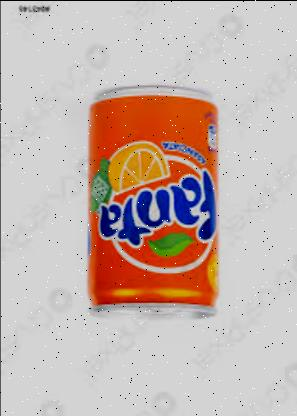Can: (84, 83, 224, 325)
